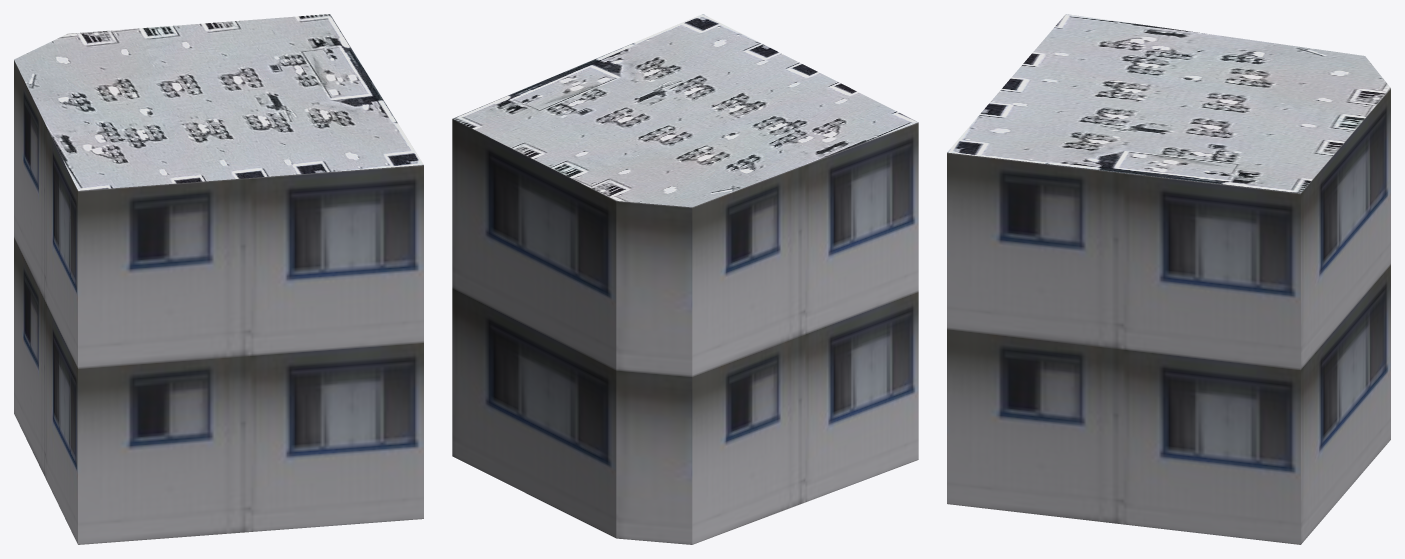
Rendered from ResTex__382.fbx.
3 renders of one model, left to right at view 1: azimuth 30°, elevation 25°; view 2: azimuth 150°, elevation 25°; view 3: azimuth 270°, elevation 25°, orthographic. The views are drawn at different scales.
Visible parts, largest first — view 1: CityEngineMaterial_9_m, CityEngineMaterial_8_m; view 2: CityEngineMaterial_9_m, CityEngineMaterial_8_m; view 3: CityEngineMaterial_9_m, CityEngineMaterial_8_m.
Part boxes in pixels (<box>): CityEngineMaterial_9_m: <box>14,60,423,544</box>; CityEngineMaterial_8_m: <box>14,14,423,190</box>; CityEngineMaterial_9_m: <box>452,119,918,544</box>; CityEngineMaterial_8_m: <box>453,14,917,207</box>; CityEngineMaterial_9_m: <box>947,88,1390,544</box>; CityEngineMaterial_8_m: <box>947,14,1390,193</box>.
Bounding box in the file's own units: 6.57 × 6 × 6.87.
Materials: 2 (2 with a texture image).
